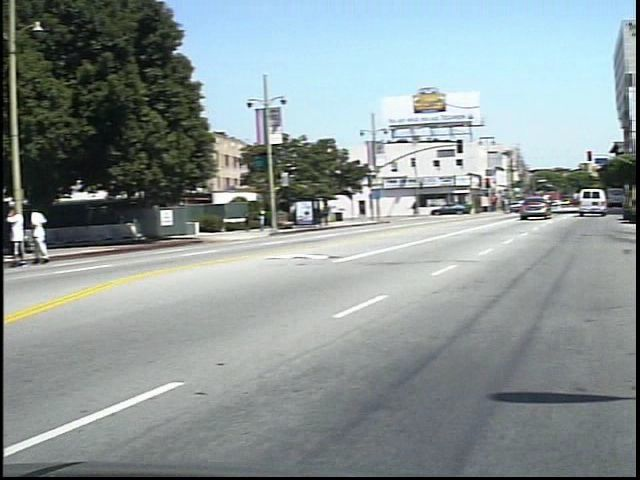person: (19, 203, 44, 266), (44, 203, 69, 265), (263, 206, 279, 236), (253, 208, 267, 234), (421, 199, 431, 219)
